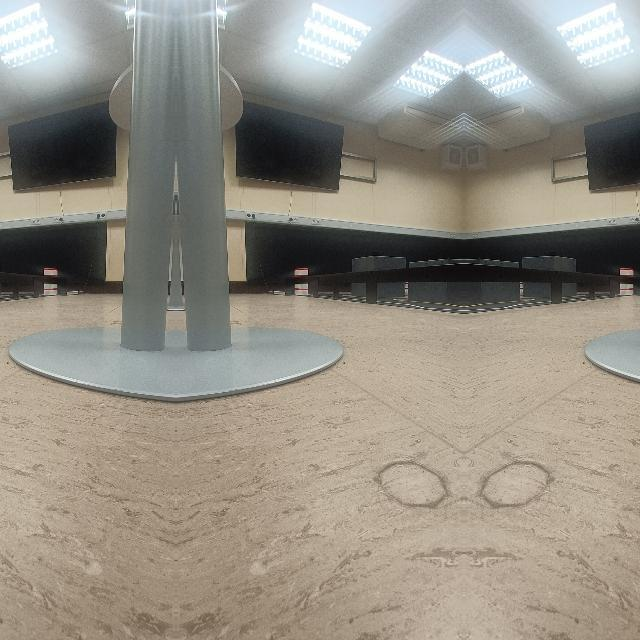obstacle: (3, 74, 175, 408), (176, 74, 347, 408), (581, 74, 640, 408)
